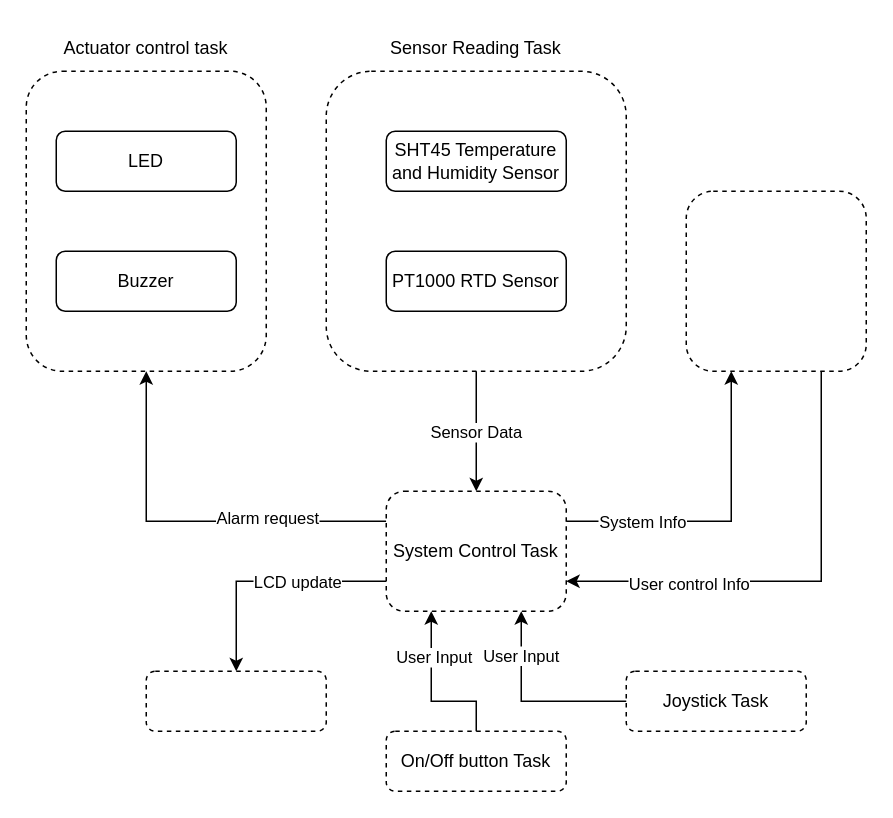
Image size: 893x818. Some labels were removed from this diagram. Each missing label, with the centre of its shape:
LCD Task: (x=235, y=700)
Wifi Task: (x=775, y=280)
